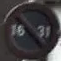No waiting: (1, 2, 58, 55)
